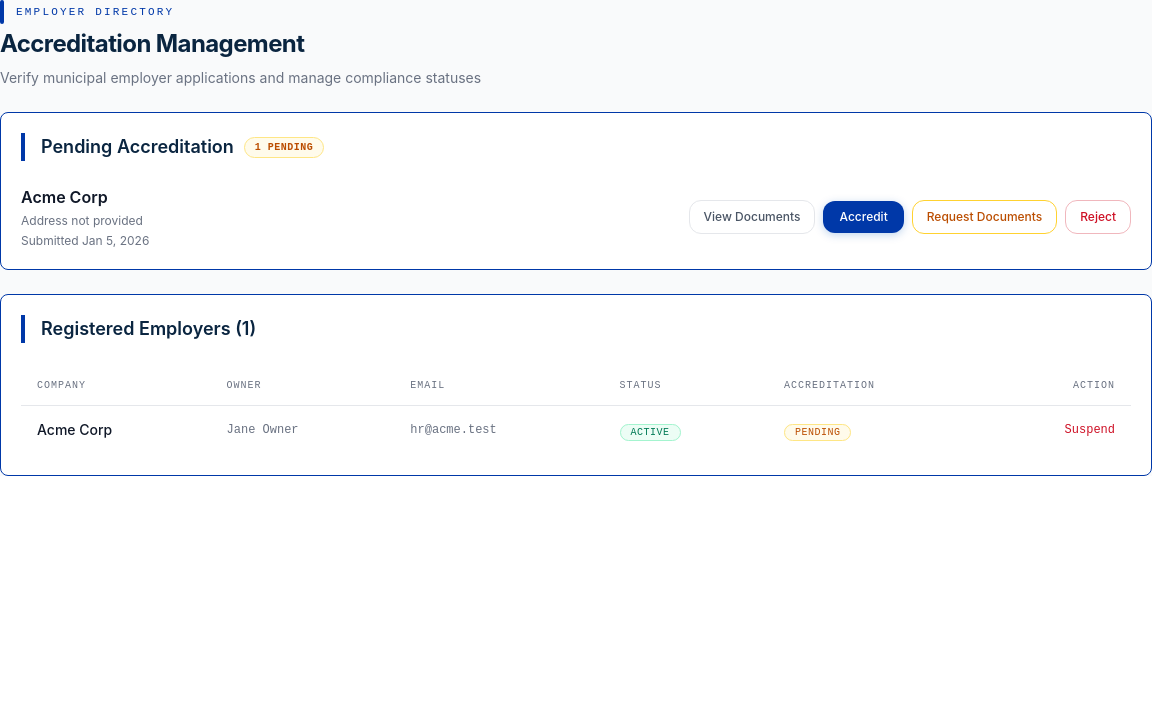
Test case: Accreditation mutation error handling (S4) › surfaces an error inside the documents modal when the signed URL fails
The width and height of the screenshot is (1152, 720).
Click the button "View Documents": click(752, 217) [688,200,816,234]
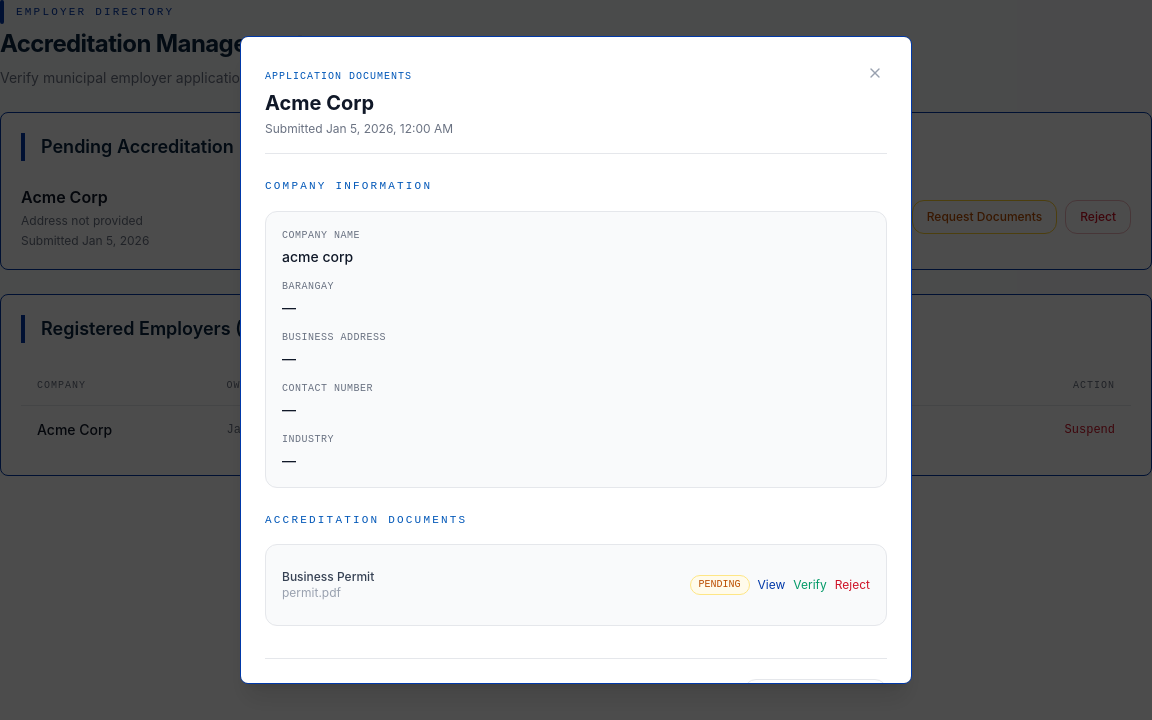
Click the button "View": click(772, 585) [758,577,785,593]
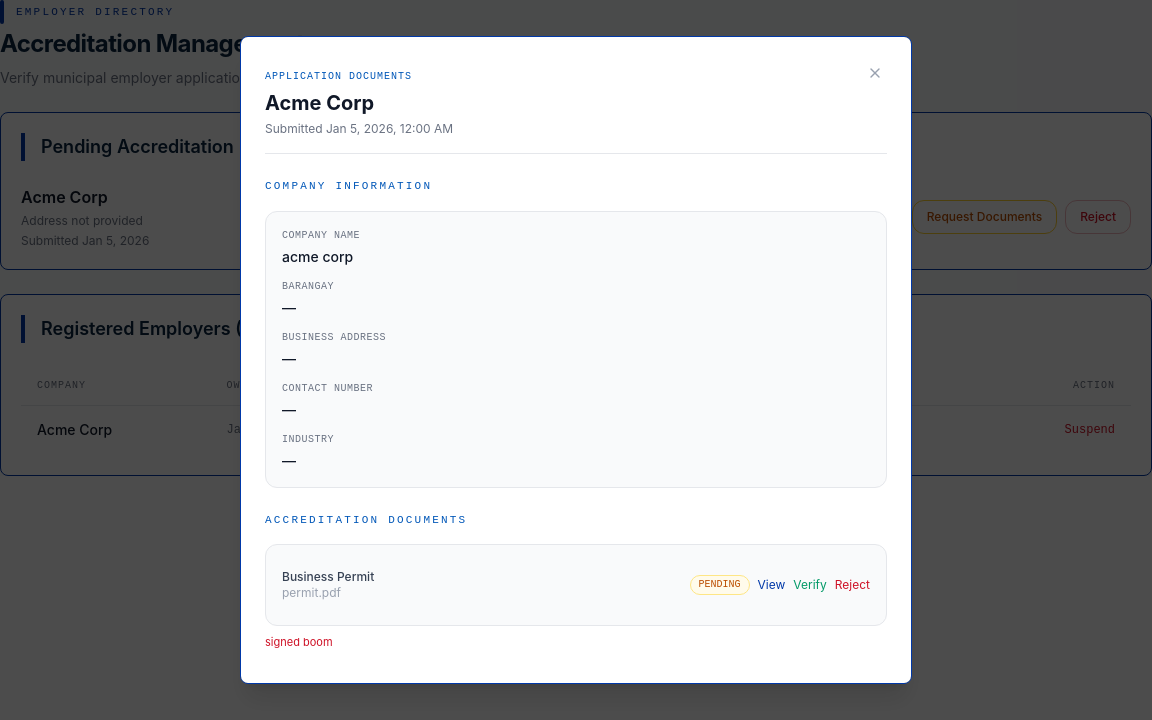
Result: the message reads "signed boom" at [265,635,332,649]
